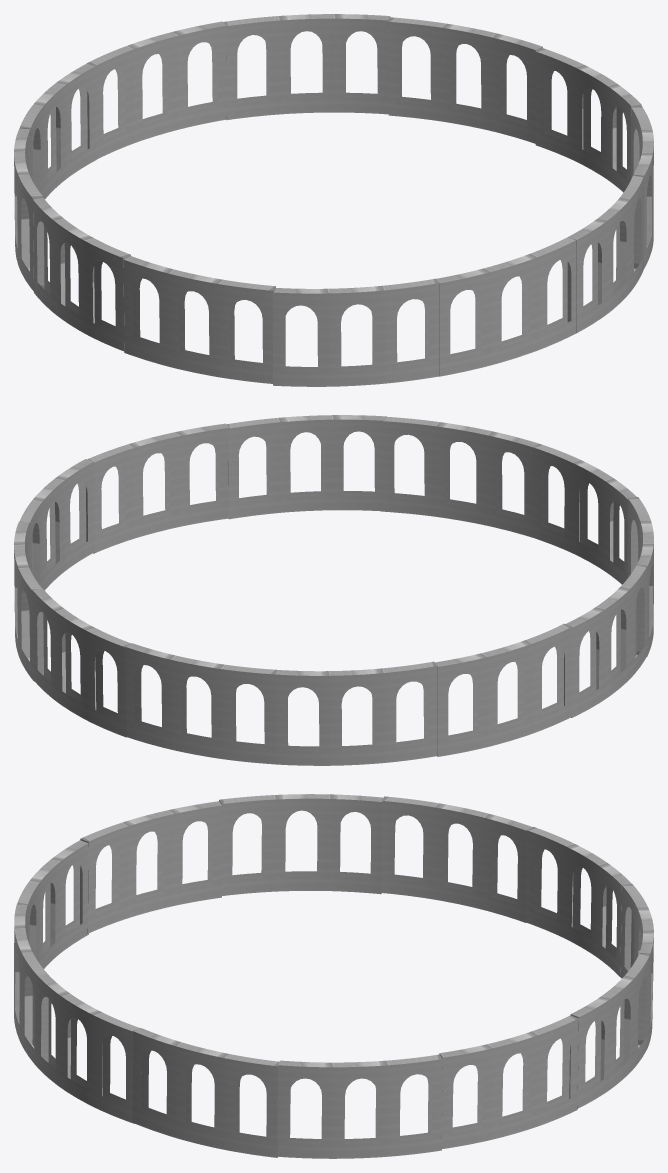
File: circularTowerB.fbx
The picture shows the model from 3 angles, top to bottom: view 1: azimuth 30°, elevation 25°; view 2: azimuth 150°, elevation 25°; view 3: azimuth 270°, elevation 25°; orthographic projection. The views are drawn at different scales.
Visible parts, largest first — view 1: circularTowerA4; view 2: circularTowerA4; view 3: circularTowerA4.
Boxes of the visible parts, bbox=[...] form: circularTowerA4: bbox=[14, 14, 653, 386]; circularTowerA4: bbox=[14, 415, 653, 765]; circularTowerA4: bbox=[14, 794, 653, 1158].
Size of the model in its own units: 2531 by 414 by 2523.
